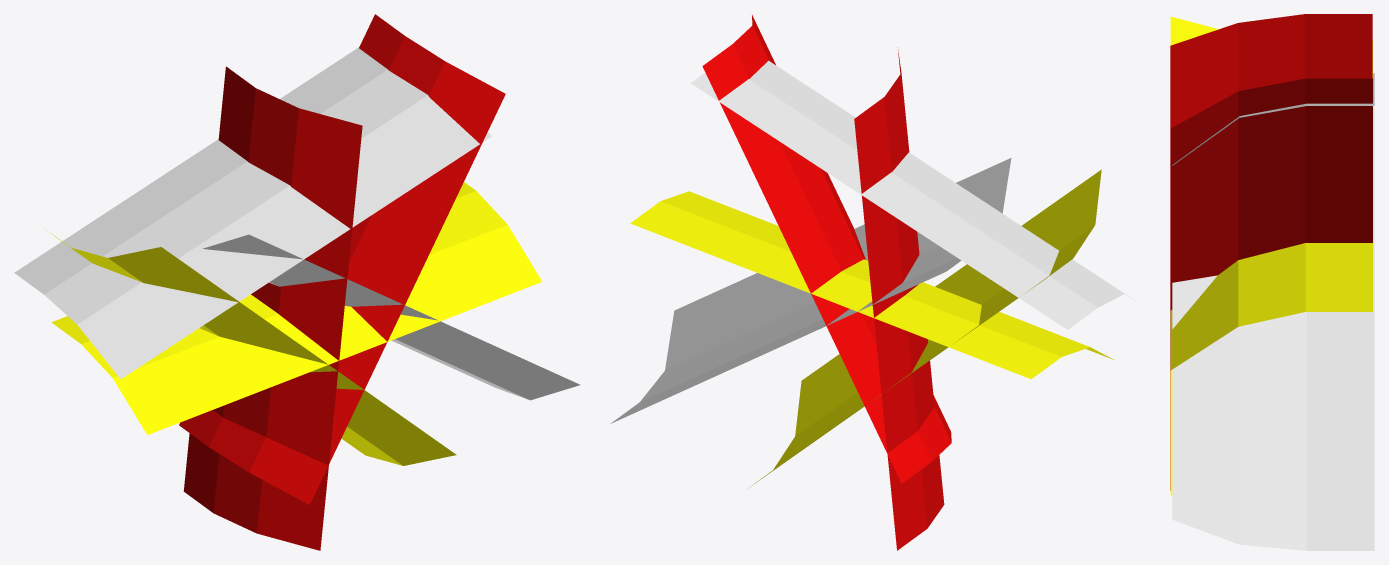
File: Grass.fbx
The picture shows the model from 3 angles, left to right: view 1: azimuth 30°, elevation 25°; view 2: azimuth 150°, elevation 25°; view 3: azimuth 270°, elevation 25°; orthographic projection. The views are drawn at different scales.
Parts seen in each view (by area): view 1: grass; view 2: grass; view 3: grass.
Part boxes in pixels (box(x1,y1,x2,y2)): grass: box(14, 14, 580, 550); grass: box(610, 15, 1131, 550); grass: box(1170, 14, 1374, 550).
Bounding box in the file's own units: 26.88 × 23.47 × 8.83.
